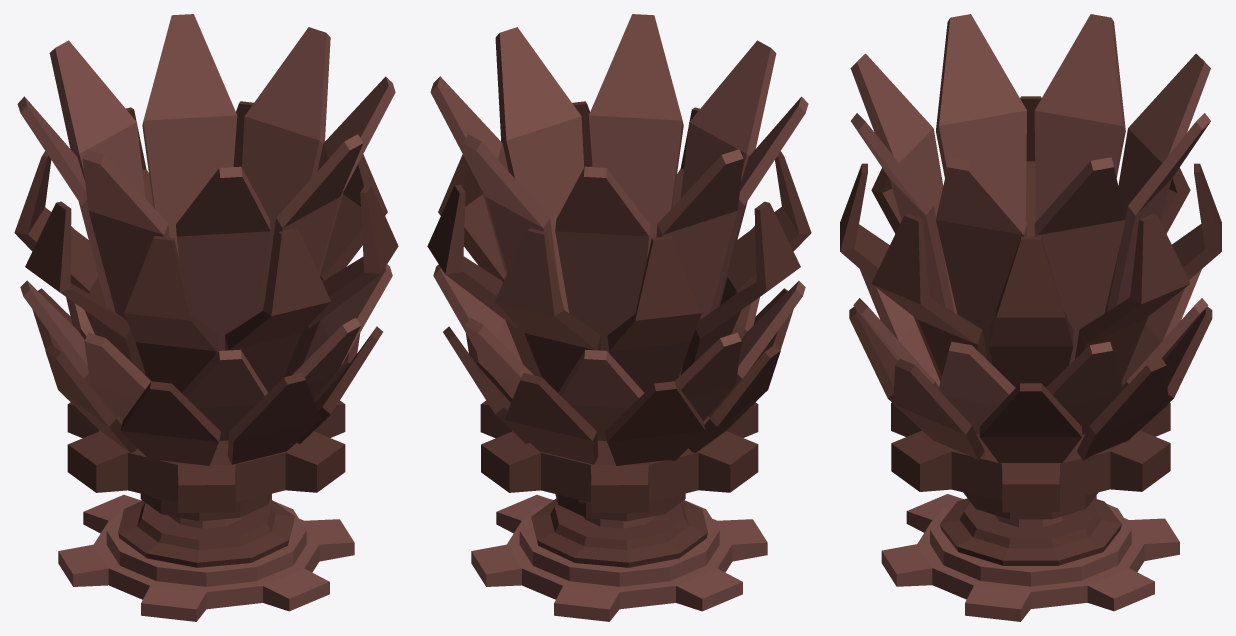
The model's file is teleporter4.glb.
3 views of the same model, side by side, from view 1: azimuth 30°, elevation 25°; view 2: azimuth 150°, elevation 25°; view 3: azimuth 270°, elevation 25° (orthographic).
Visible parts, largest first — view 1: _MeshInstance3D_218, _MeshInstance3D_217; view 2: _MeshInstance3D_218, _MeshInstance3D_217; view 3: _MeshInstance3D_218, _MeshInstance3D_217.
Boxes of the visible parts, x1,y1,x2,y2 form: _MeshInstance3D_218: (14, 14, 398, 512); _MeshInstance3D_217: (58, 493, 354, 621); _MeshInstance3D_218: (427, 14, 811, 512); _MeshInstance3D_217: (471, 493, 767, 621); _MeshInstance3D_218: (840, 14, 1221, 512); _MeshInstance3D_217: (881, 492, 1179, 621).
Bounding box in the file's own units: 1.76 × 2.41 × 1.76.
